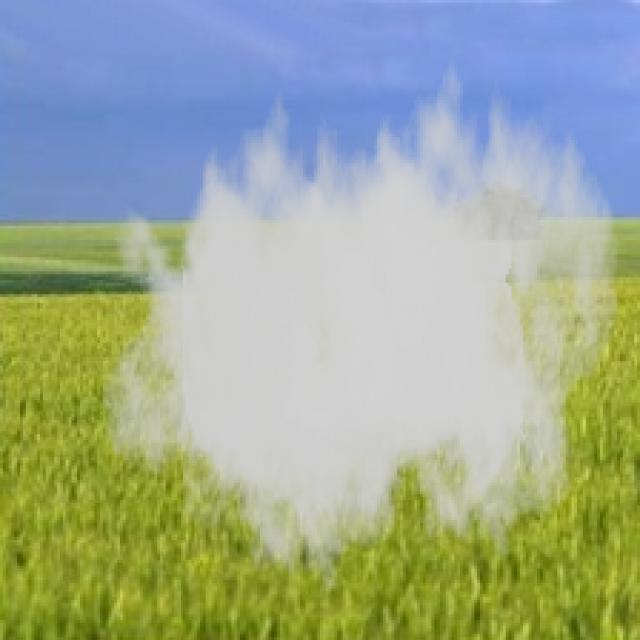Smoke: (100, 34, 620, 603)
